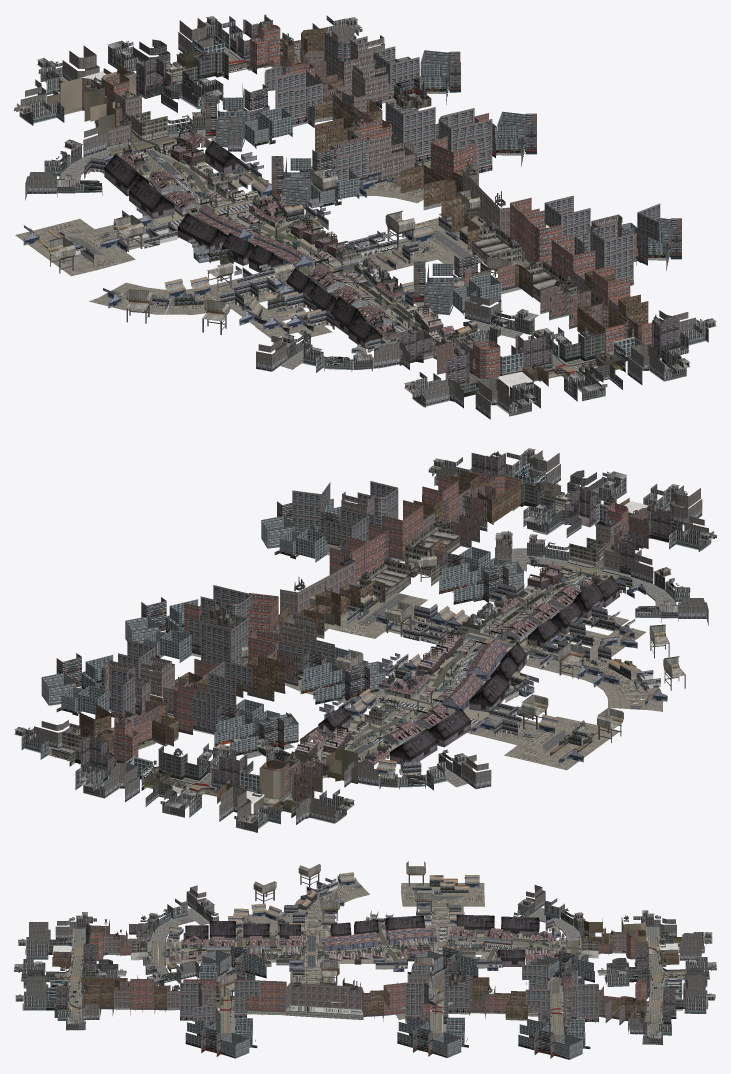
The picture shows the model from 3 angles, top to bottom: view 1: azimuth 30°, elevation 25°; view 2: azimuth 150°, elevation 25°; view 3: azimuth 270°, elevation 25°; orthographic projection. The views are drawn at different scales.
Parts seen in each view (by area): view 1: backdrop_grp_003_mdl_001_sub_000_material_099_0, backdrop_grp_001_mdl_001_sub_000_material_098_0, backdrop_grp_000_mdl_001_sub_000_material_097_0, unit_020_sub_000_material_083_0, unit_000_sub_044_material_044_0, unit_015_sub_036_material_073_0, unit_000_sub_043_material_043_0, unit_000_sub_008_material_008_0, unit_000_sub_013_material_013_0, unit_000_sub_037_material_037_0, backdrop_grp_007_mdl_001_sub_000_material_100_0, unit_000_sub_041_material_041_0 (+17 smaller); view 2: backdrop_grp_003_mdl_001_sub_000_material_099_0, backdrop_grp_001_mdl_001_sub_000_material_098_0, backdrop_grp_000_mdl_001_sub_000_material_097_0, unit_020_sub_000_material_083_0, unit_000_sub_044_material_044_0, unit_015_sub_036_material_073_0, unit_000_sub_043_material_043_0, unit_000_sub_008_material_008_0, unit_000_sub_013_material_013_0, unit_000_sub_037_material_037_0, unit_000_sub_041_material_041_0, backdrop_grp_007_mdl_001_sub_000_material_100_0 (+16 smaller); view 3: backdrop_grp_001_mdl_001_sub_000_material_098_0, backdrop_grp_003_mdl_001_sub_000_material_099_0, backdrop_grp_000_mdl_001_sub_000_material_097_0, unit_020_sub_000_material_083_0, unit_000_sub_043_material_043_0, unit_000_sub_008_material_008_0, unit_000_sub_044_material_044_0, unit_015_sub_036_material_073_0, unit_000_sub_013_material_013_0, backdrop_grp_007_mdl_001_sub_000_material_100_0, unit_000_sub_037_material_037_0, unit_000_sub_007_material_007_0 (+26 smaller).
Boxes of the visible parts, x1=… form: backdrop_grp_003_mdl_001_sub_000_material_099_0: x1=15, y1=136, x2=511, y2=359; backdrop_grp_001_mdl_001_sub_000_material_098_0: x1=14, y1=15, x2=716, y2=419; backdrop_grp_000_mdl_001_sub_000_material_097_0: x1=204, y1=50, x2=681, y2=315; unit_020_sub_000_material_083_0: x1=265, y1=30, x2=660, y2=280; unit_000_sub_044_material_044_0: x1=105, y1=24, x2=651, y2=376; unit_015_sub_036_material_073_0: x1=103, y1=28, x2=648, y2=386; unit_000_sub_043_material_043_0: x1=107, y1=35, x2=626, y2=371; unit_000_sub_008_material_008_0: x1=104, y1=141, x2=382, y2=349; unit_000_sub_013_material_013_0: x1=120, y1=56, x2=455, y2=340; unit_000_sub_037_material_037_0: x1=136, y1=14, x2=679, y2=384; backdrop_grp_007_mdl_001_sub_000_material_100_0: x1=47, y1=50, x2=622, y2=395; unit_000_sub_041_material_041_0: x1=60, y1=53, x2=603, y2=374; backdrop_grp_003_mdl_001_sub_000_material_099_0: x1=241, y1=548, x2=685, y2=775; backdrop_grp_001_mdl_001_sub_000_material_098_0: x1=14, y1=448, x2=716, y2=832; backdrop_grp_000_mdl_001_sub_000_material_097_0: x1=41, y1=498, x2=523, y2=755; unit_020_sub_000_material_083_0: x1=111, y1=481, x2=398, y2=730; unit_000_sub_044_material_044_0: x1=114, y1=471, x2=628, y2=792; unit_015_sub_036_material_073_0: x1=79, y1=470, x2=629, y2=803; unit_000_sub_043_material_043_0: x1=104, y1=488, x2=621, y2=764; unit_000_sub_008_material_008_0: x1=318, y1=575, x2=619, y2=764; unit_000_sub_013_material_013_0: x1=110, y1=564, x2=601, y2=764; unit_000_sub_037_material_037_0: x1=80, y1=453, x2=671, y2=785; unit_000_sub_041_material_041_0: x1=125, y1=485, x2=648, y2=802; backdrop_grp_007_mdl_001_sub_000_material_100_0: x1=138, y1=481, x2=632, y2=820; backdrop_grp_001_mdl_001_sub_000_material_098_0: x1=14, y1=885, x2=716, y2=1044; backdrop_grp_003_mdl_001_sub_000_material_099_0: x1=167, y1=861, x2=563, y2=1019; backdrop_grp_000_mdl_001_sub_000_material_097_0: x1=185, y1=943, x2=594, y2=1059; unit_020_sub_000_material_083_0: x1=180, y1=964, x2=598, y2=1031; unit_000_sub_043_material_043_0: x1=104, y1=927, x2=625, y2=1026; unit_000_sub_008_material_008_0: x1=185, y1=915, x2=539, y2=966; unit_000_sub_044_material_044_0: x1=82, y1=929, x2=646, y2=1028; unit_015_sub_036_material_073_0: x1=52, y1=949, x2=679, y2=1018; unit_000_sub_013_material_013_0: x1=169, y1=926, x2=557, y2=963; backdrop_grp_007_mdl_001_sub_000_material_100_0: x1=52, y1=915, x2=681, y2=1023; unit_000_sub_037_material_037_0: x1=55, y1=920, x2=675, y2=1016; unit_000_sub_007_material_007_0: x1=165, y1=925, x2=566, y2=969.
Size of the model in its own units: 14.65 by 2.16 by 23.9.
100 materials, 99 textured.
